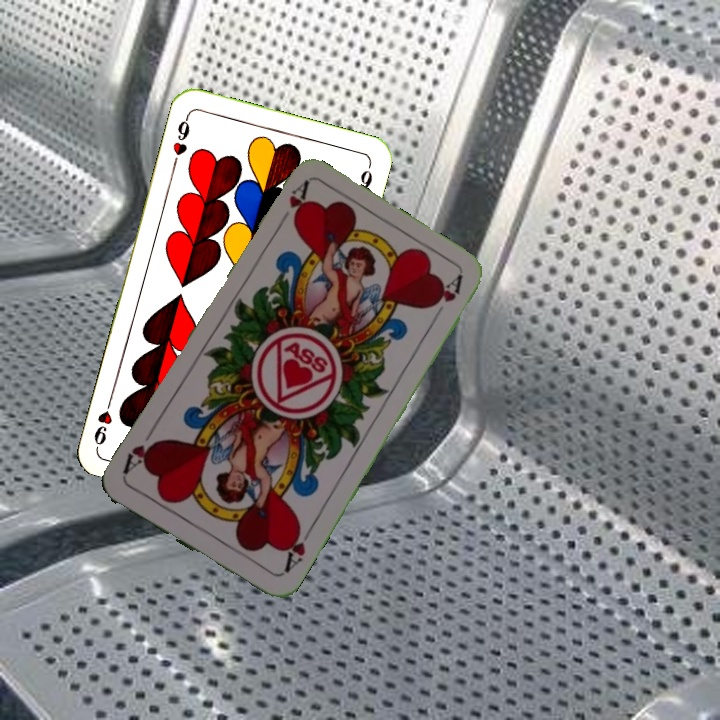H9: (168, 111, 192, 169)
HA: (273, 178, 311, 232), (278, 522, 315, 576)
